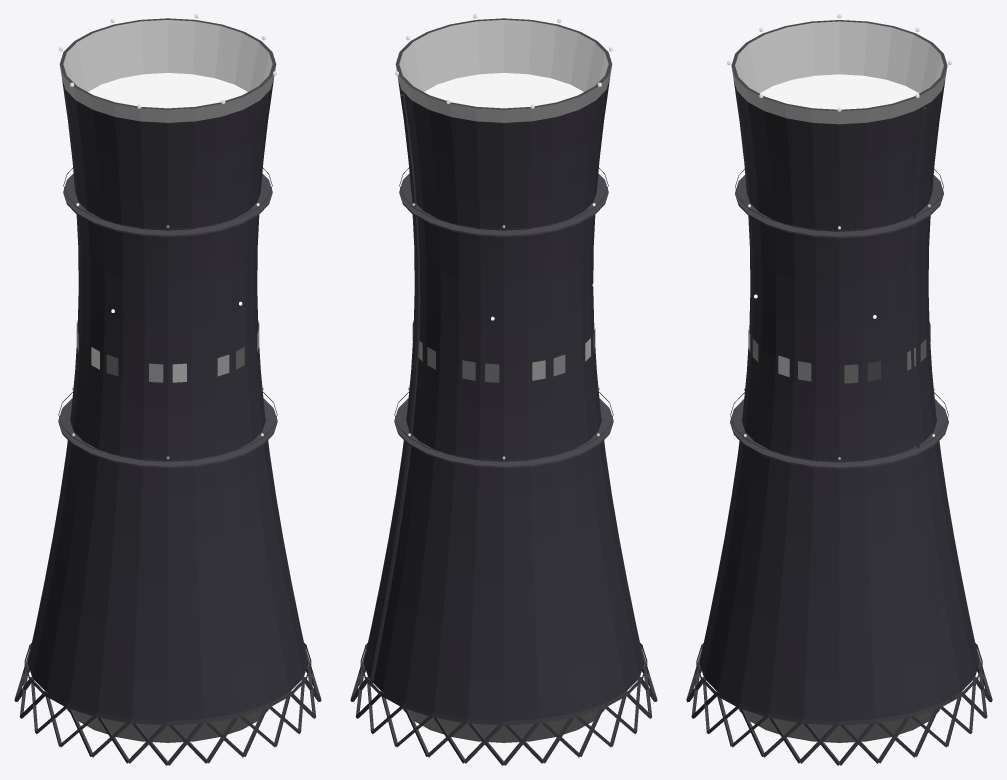
File: cond_stack_a.glb
3 views of the same model, side by side, from view 1: azimuth 30°, elevation 25°; view 2: azimuth 150°, elevation 25°; view 3: azimuth 270°, elevation 25° (orthographic).
Visible parts, largest first — view 1: cond_stack_a; view 2: cond_stack_a; view 3: cond_stack_a.
Boxes of the visible parts, x1,y1,x2,y2 form: cond_stack_a: (14,14,321,765); cond_stack_a: (350,14,657,765); cond_stack_a: (686,14,992,765).
Bounding box in the file's own units: 51.6 × 119 × 51.6.
6 materials, 2 textured.
